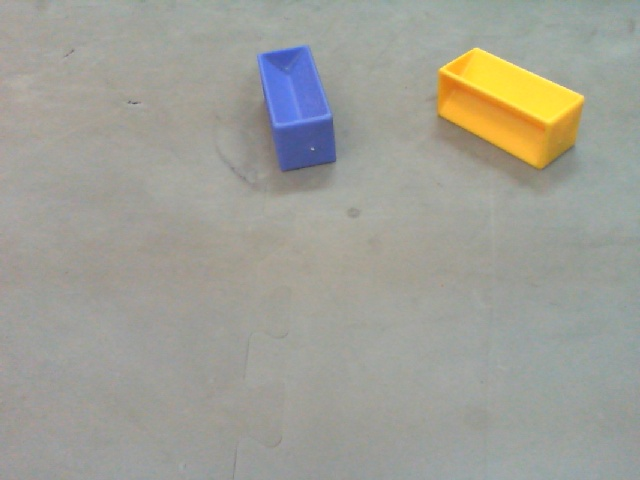BlueSample: (257, 45, 340, 174)
YellowSample: (436, 45, 585, 175)
